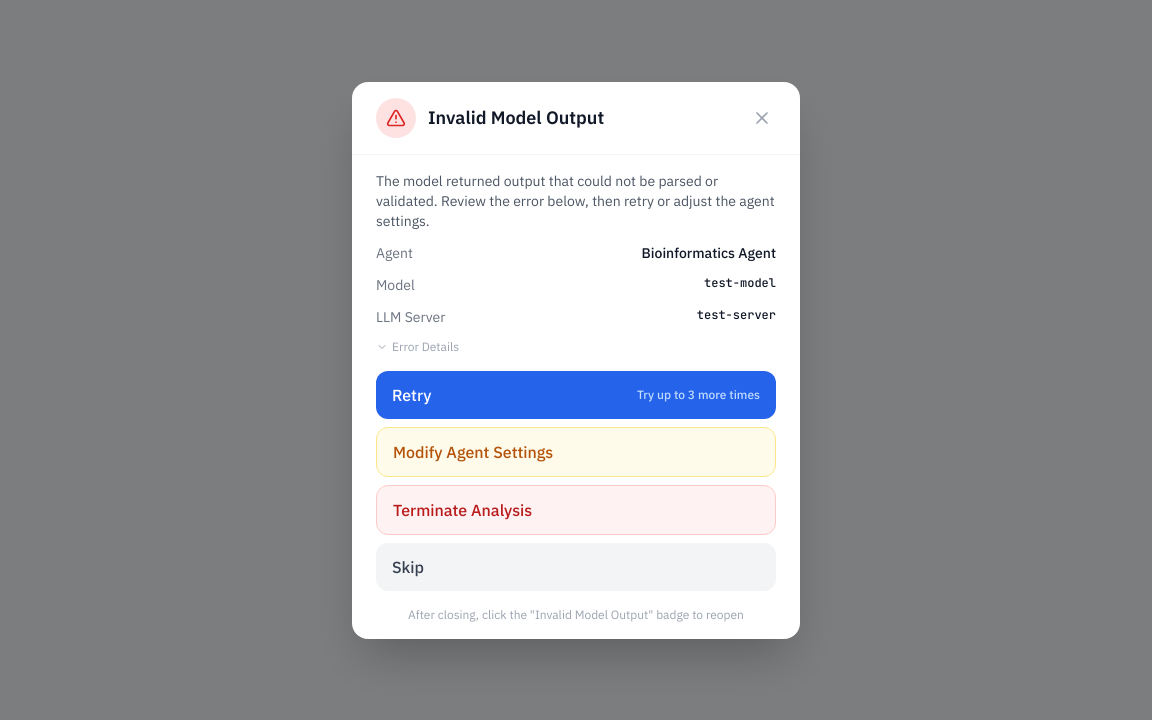
Test case: Annotation failure intervention › classifies invalid model output in en
Expected: the text "After closing, click the \"Invalid Model Output\" badge to reopen" is shown, left=408, top=606, right=744, bottom=622
Expected: the button "Modify Agent Settings" is shown, left=376, top=426, right=776, bottom=476
Click the button "Error Details" at point(418, 346), box left=376, top=338, right=459, bottom=354
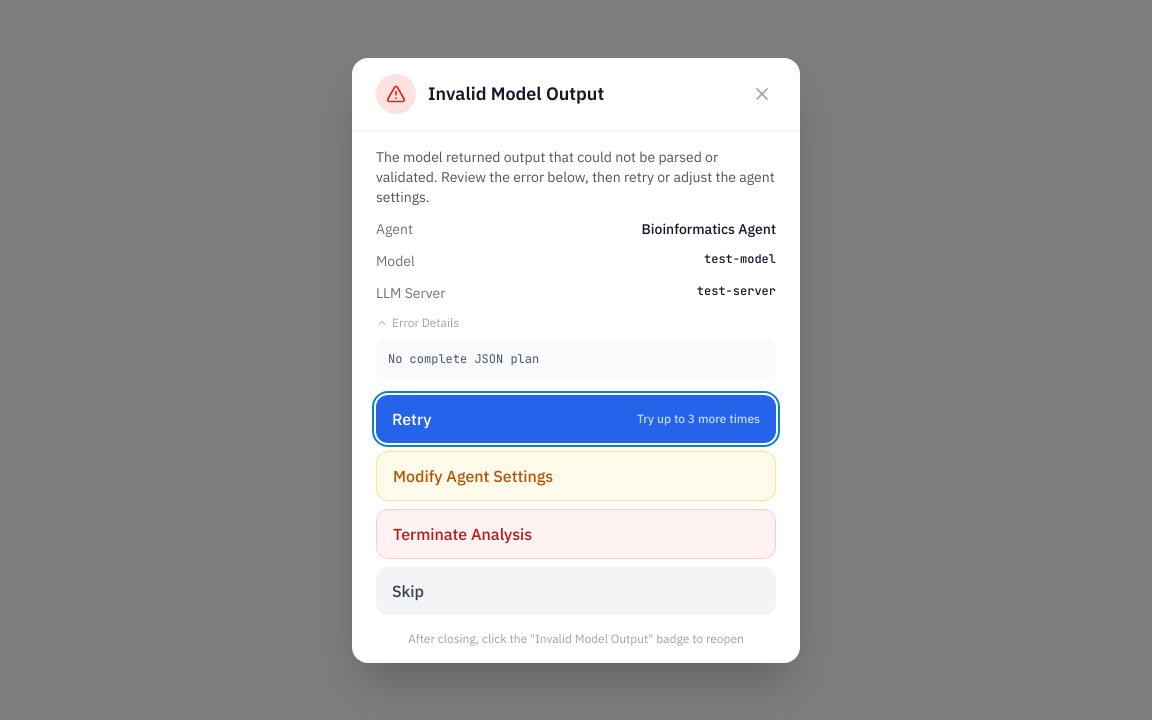
Expected: the text "No complete JSON plan" is shown, left=376, top=338, right=776, bottom=378
